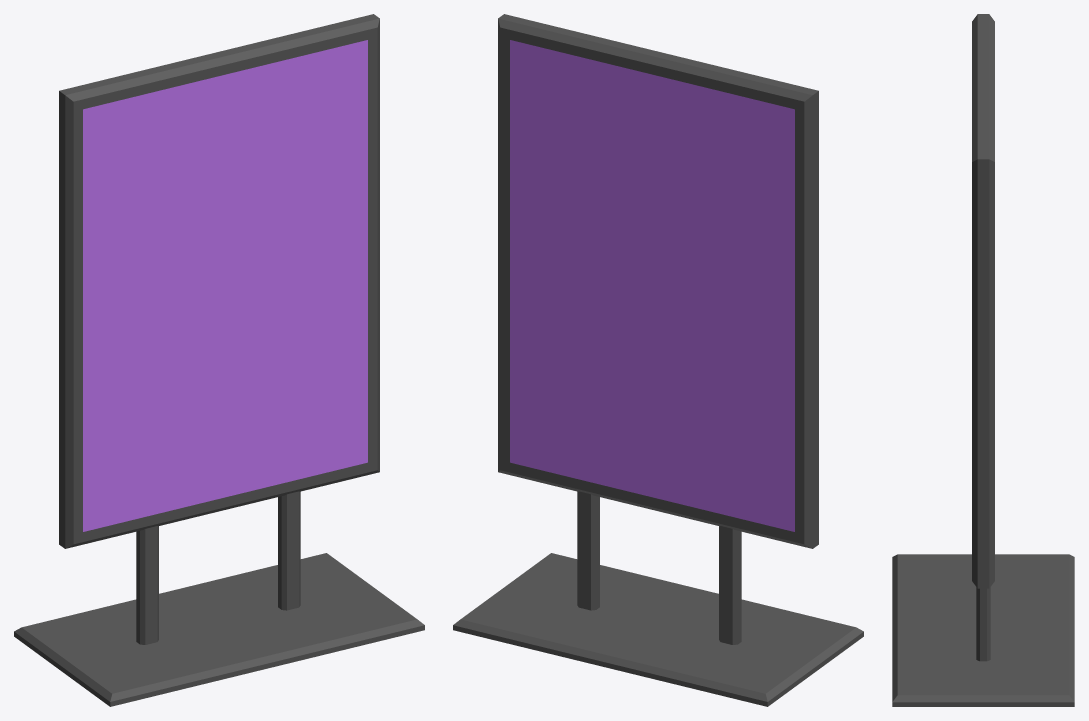
The model's file is StandingSign_01.fbx.
3 views of the same model, side by side, from view 1: azimuth 30°, elevation 25°; view 2: azimuth 150°, elevation 25°; view 3: azimuth 270°, elevation 25° (orthographic). The views are drawn at different scales.
Visible parts, largest first — view 1: StandingSign_01; view 2: StandingSign_01; view 3: StandingSign_01.
Boxes of the visible parts, x1,y1,x2,y2 form: StandingSign_01: (14,14,424,706); StandingSign_01: (453,14,863,706); StandingSign_01: (892,14,1074,706).
Bounding box in the file's own units: 57.33 × 101 × 30.37.
